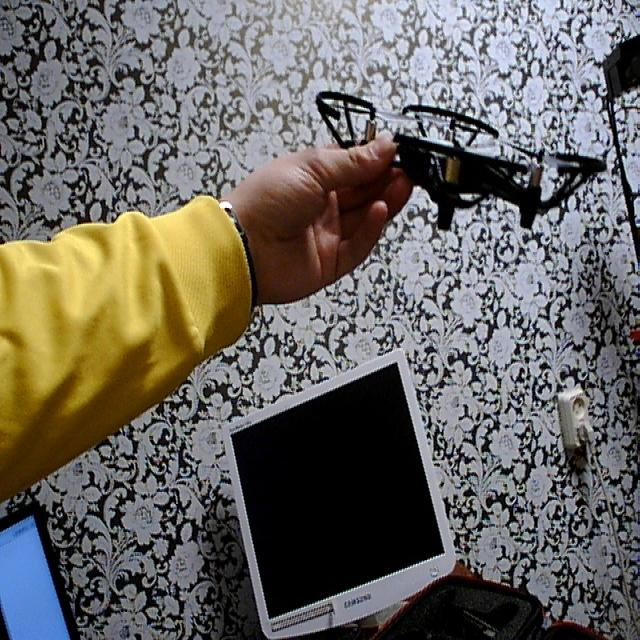drone: (293, 66, 621, 246)
